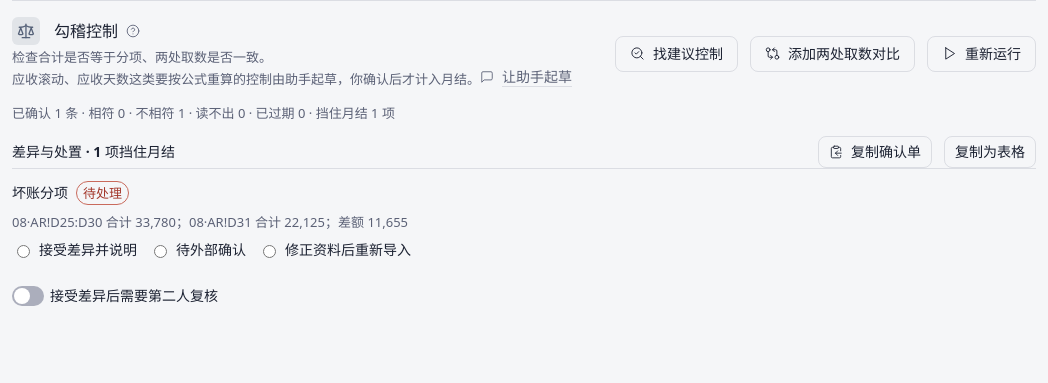
copies the confirmation sheet for the person who compiled the books
The image size is (1048, 383).
Click the button "复制确认单" at coordinates (875, 152), box [818,136,932,168]
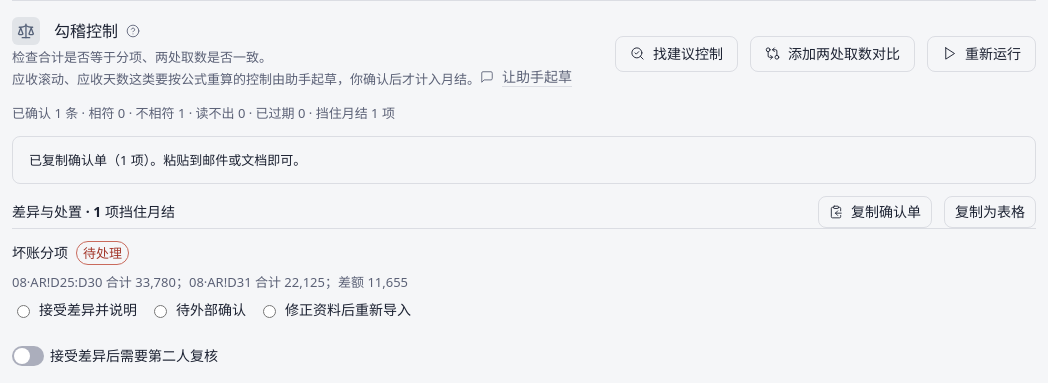
Check: the text "已复制确认单（1 项）。粘贴到邮件或文档即可。" is shown, box [12,136,1036,184]
